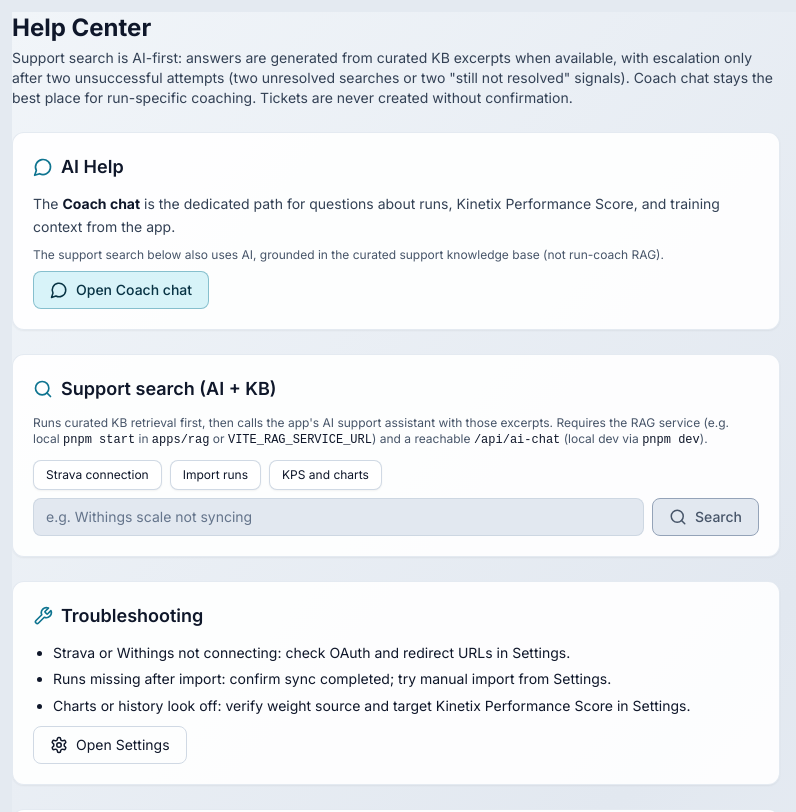
Test: Help Center support KB UI › shows AI answer and retrieved article titles when query succeeds
Click the button "Strava connection" at (97, 474), box [33,460,162,490]
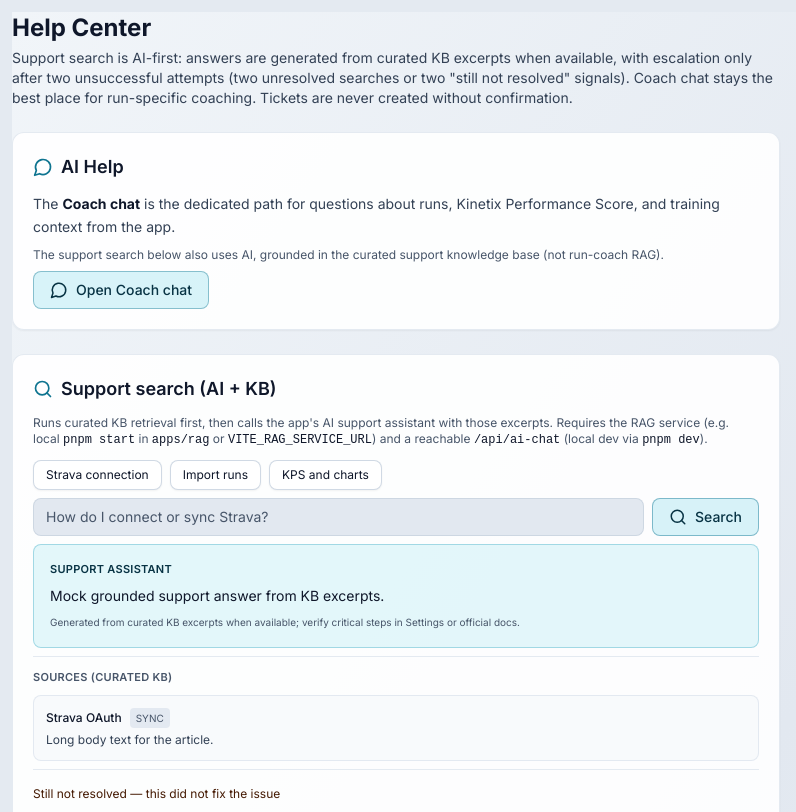
expect the button with test id "help-mark-unresolved" is shown: met, box [33,786,280,802]
expect the element with test id "help-support-ai-answer" is shown: met, box [33,544,759,648]
expect the text "Mock grounded support answer from KB excerpts." is shown: met, box [50,587,384,604]
